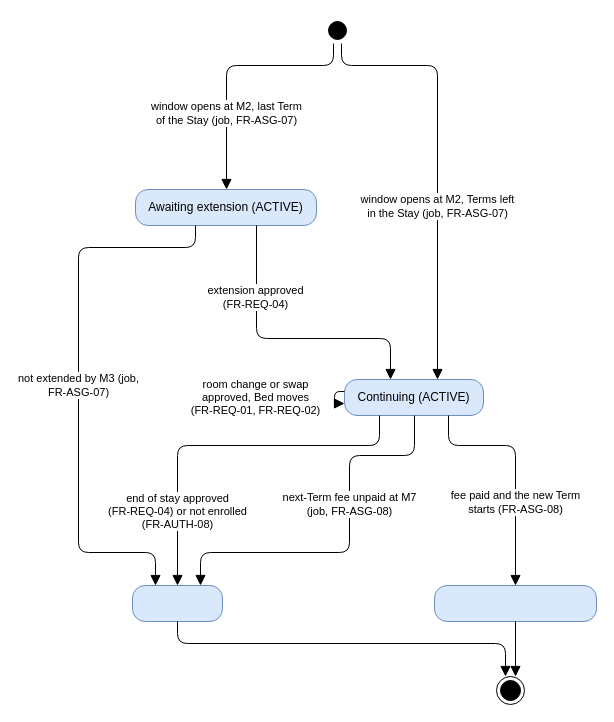
Some shapes in this 614 by 722 pixel diagram are drawn without their labels. The shapes that lost their labels are listed below. From the top down, each one's box as (x1, y1, x2, y2) in pixels, then its label:
(132, 584, 222, 622): Cancelled
(434, 584, 596, 622): Resident in the new Term
